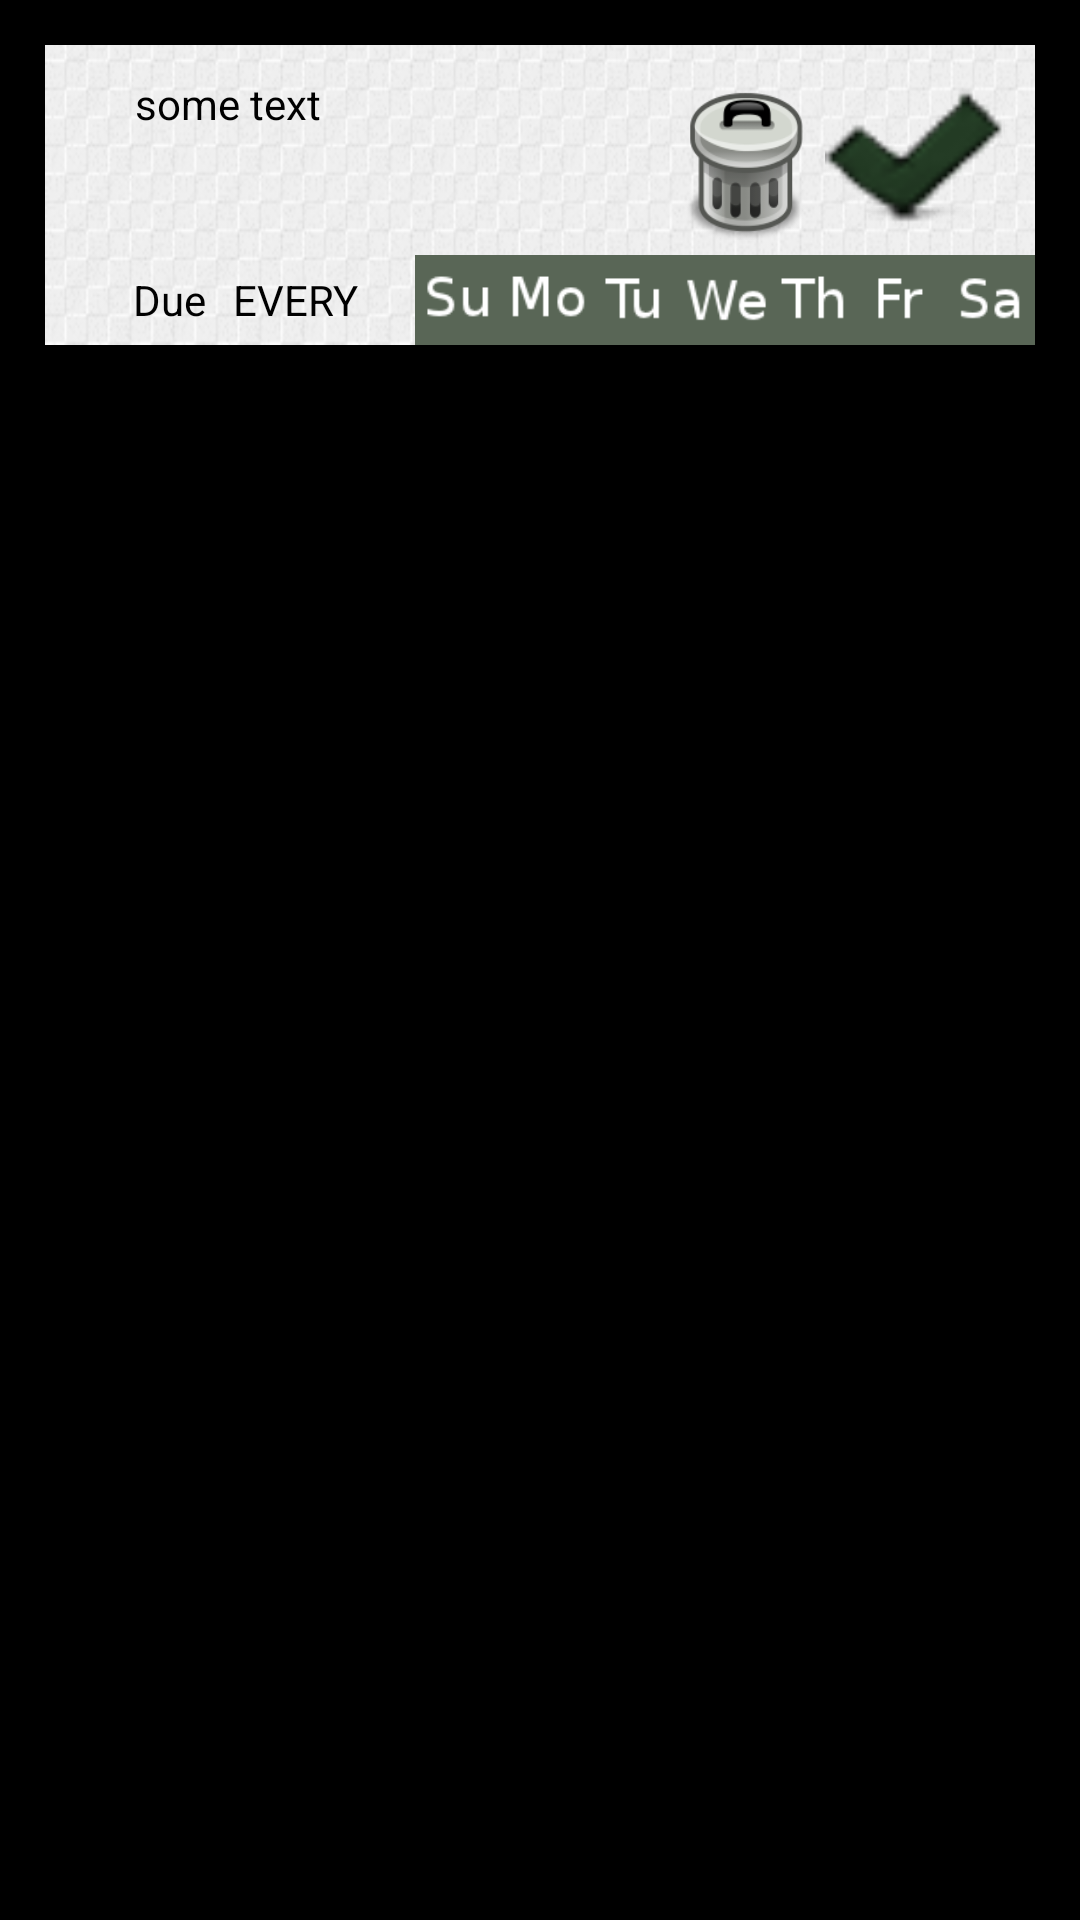

Icons on this 1080*1920 Android screen, each with its box as (x1, y1, x2, y2):
bullet accept off: (825, 92, 1002, 221)
trash can: (690, 93, 803, 237)
